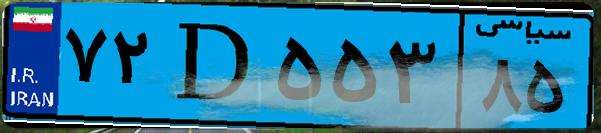2: (110, 28, 158, 98)
3: (385, 28, 445, 110)
5: (270, 28, 330, 110), (330, 28, 385, 110), (525, 38, 570, 115)
7: (57, 26, 110, 100)
8: (475, 38, 525, 113)
D: (158, 12, 270, 120)
